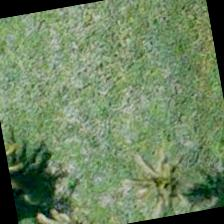Kelapa_Sawit: (106, 130, 210, 223)
